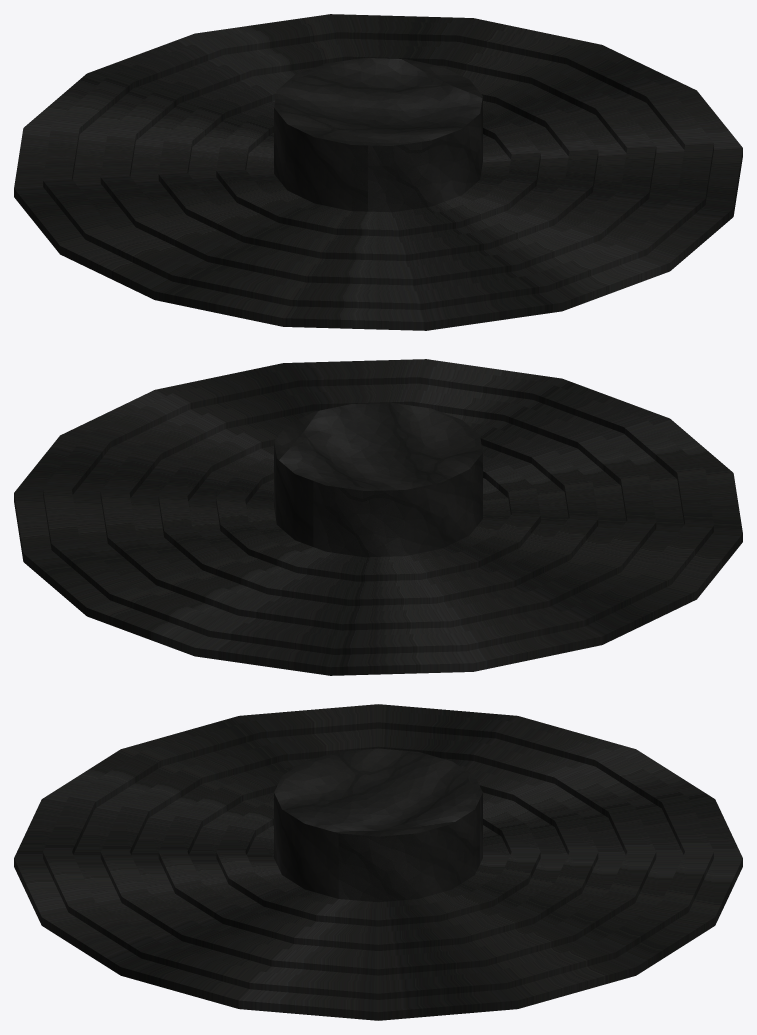
The model's file is Fountain.fbx.
3 renders of one model, top to bottom at view 1: azimuth 30°, elevation 25°; view 2: azimuth 150°, elevation 25°; view 3: azimuth 270°, elevation 25°, orthographic.
Parts seen in each view (by area): view 1: Circle; view 2: Circle; view 3: Circle.
Part boxes in pixels (x1,y1,x2,y2): Circle: (14, 14, 742, 330); Circle: (14, 359, 742, 675); Circle: (14, 704, 742, 1020).
Size of the model in its own units: 698 by 78.45 by 698.
Materials: 1 (1 with a texture image).
